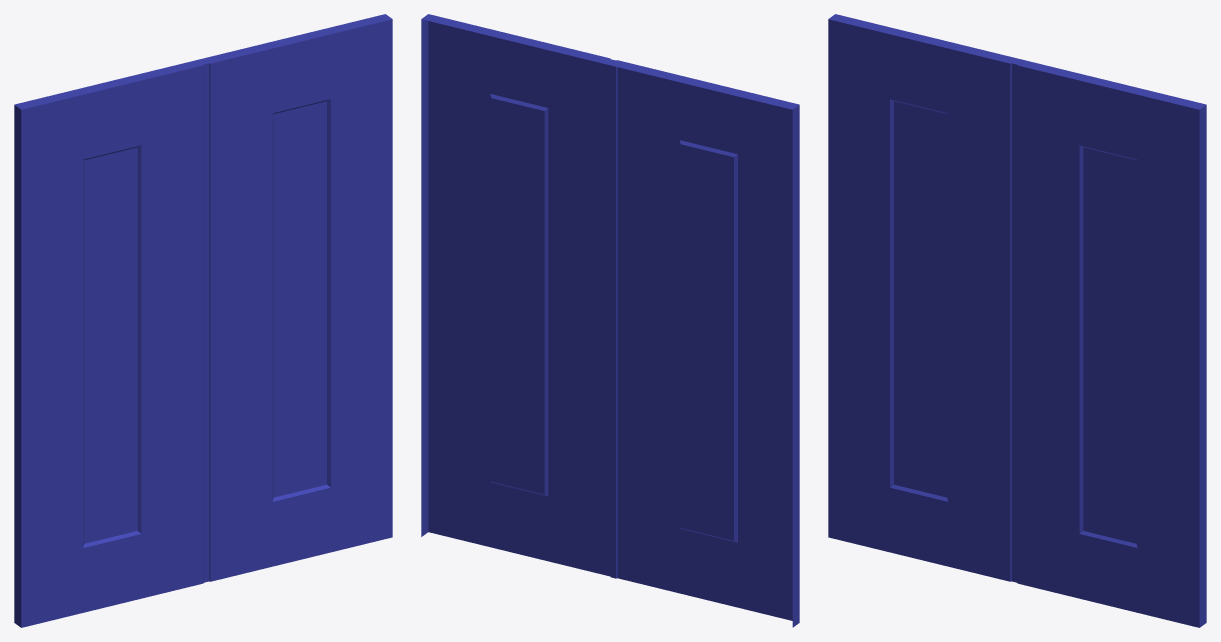
Rendered from closetDoorDouble.FBX.
3 renders of one model, left to right at view 1: azimuth 30°, elevation 25°; view 2: azimuth 150°, elevation 25°; view 3: azimuth 330°, elevation 25°, orthographic.
Parts seen in each view (by area): view 1: closetDoorDouble; view 2: closetDoorDouble; view 3: closetDoorDouble.
Boxes of the visible parts, left/top/right/bottom form: closetDoorDouble: left=14, top=14, right=392, bottom=627; closetDoorDouble: left=421, top=14, right=799, bottom=627; closetDoorDouble: left=828, top=14, right=1206, bottom=627.
Bounding box in the file's own units: 3 × 4 × 0.1.
